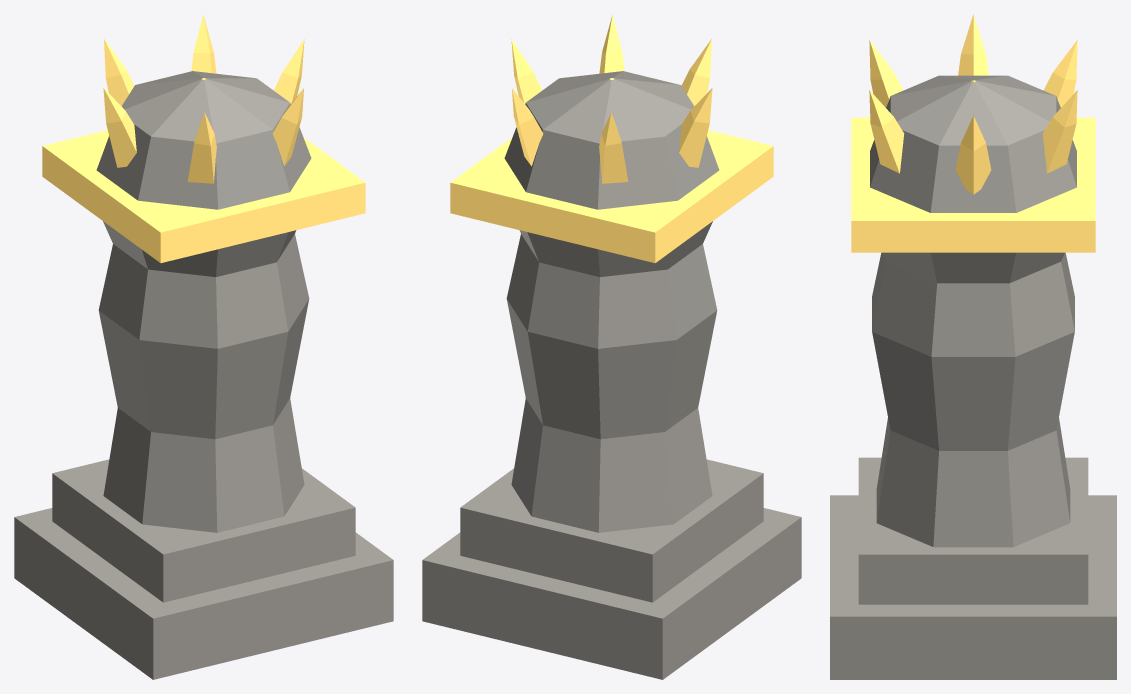
File: temple_idol.glb
3 renders of one model, left to right at view 1: azimuth 30°, elevation 25°; view 2: azimuth 150°, elevation 25°; view 3: azimuth 270°, elevation 25°, orthographic. The views are drawn at different scales.
Parts seen in each view (by area): view 1: IdolStoneBody, IdolGoldCrown; view 2: IdolStoneBody, IdolGoldCrown; view 3: IdolStoneBody, IdolGoldCrown.
Part boxes in pixels (left/top/right/bottom): IdolStoneBody: left=14, top=71, right=393, bottom=679; IdolGoldCrown: left=42, top=14, right=365, bottom=262; IdolStoneBody: left=422, top=71, right=801, bottom=679; IdolGoldCrown: left=450, top=14, right=773, bottom=262; IdolStoneBody: left=830, top=75, right=1116, bottom=679; IdolGoldCrown: left=851, top=14, right=1095, bottom=252.
Size of the model in its own units: 1.15 by 2.45 by 1.15.
